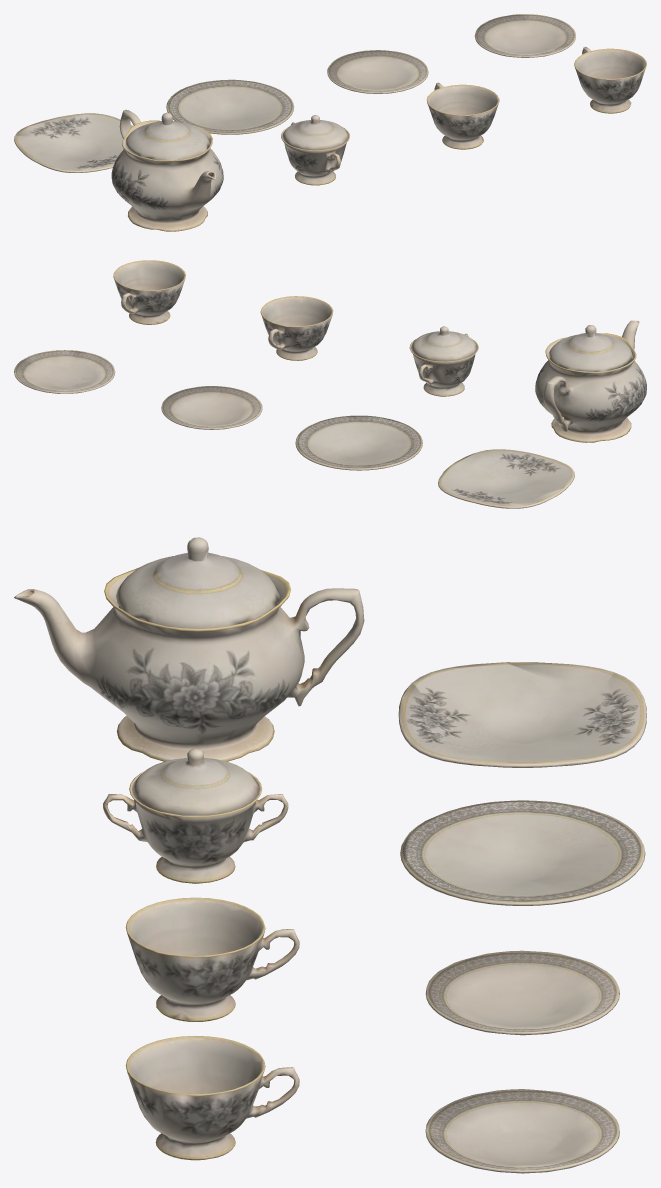
Rendered from tea_set_01.glb.
3 renders of one model, top to bottom at view 1: azimuth 30°, elevation 25°; view 2: azimuth 150°, elevation 25°; view 3: azimuth 270°, elevation 25°, orthographic. The views are drawn at different scales.
Parts seen in each view (by area): view 1: tea_set_01_plate_large_square_01; view 2: tea_set_01_plate_large_square_01; view 3: tea_set_01_plate_large_square_01.
Part boxes in pixels (<box>): tea_set_01_plate_large_square_01: <box>14,14,646,231</box>; tea_set_01_plate_large_square_01: <box>14,260,646,508</box>; tea_set_01_plate_large_square_01: <box>14,537,646,1173</box>.
Size of the model in its own units: 0.9183 by 0.165 by 0.4838.
1 material, 1 textured.
